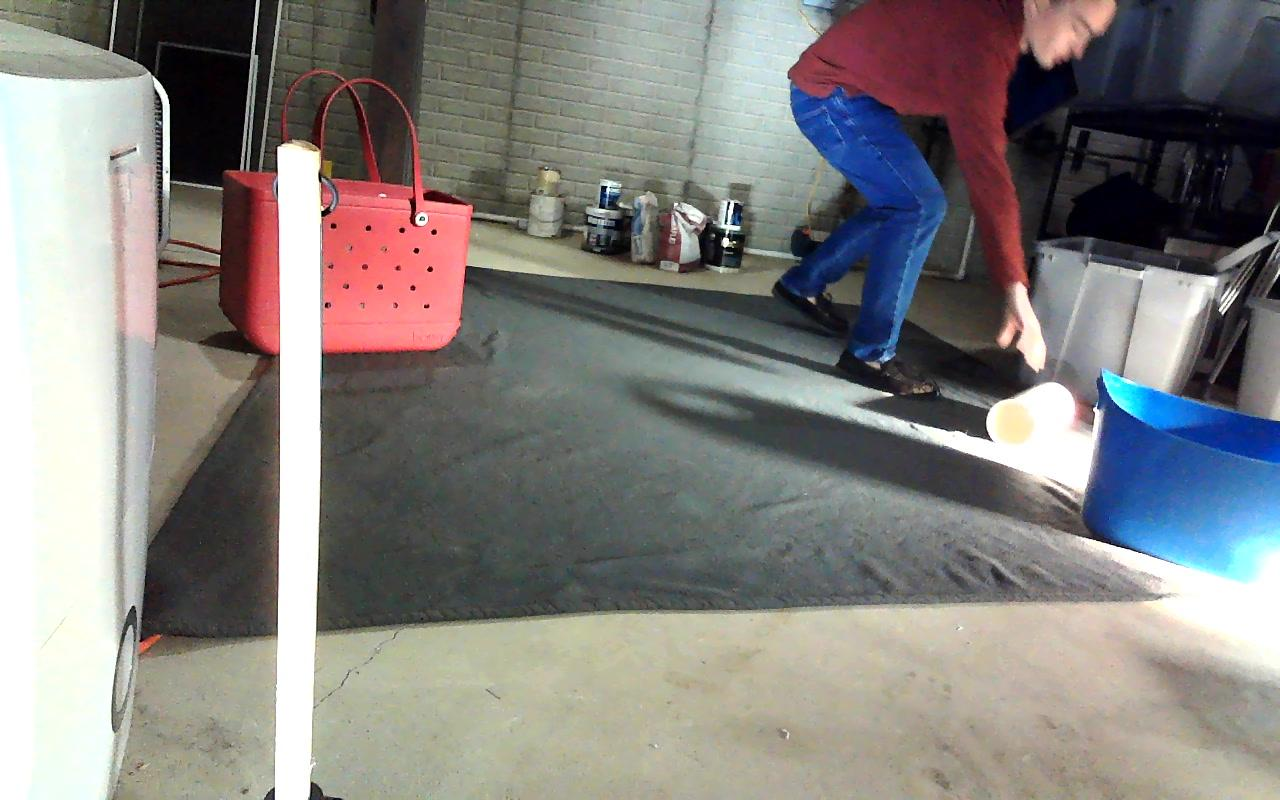coral: (987, 381, 1075, 446)
